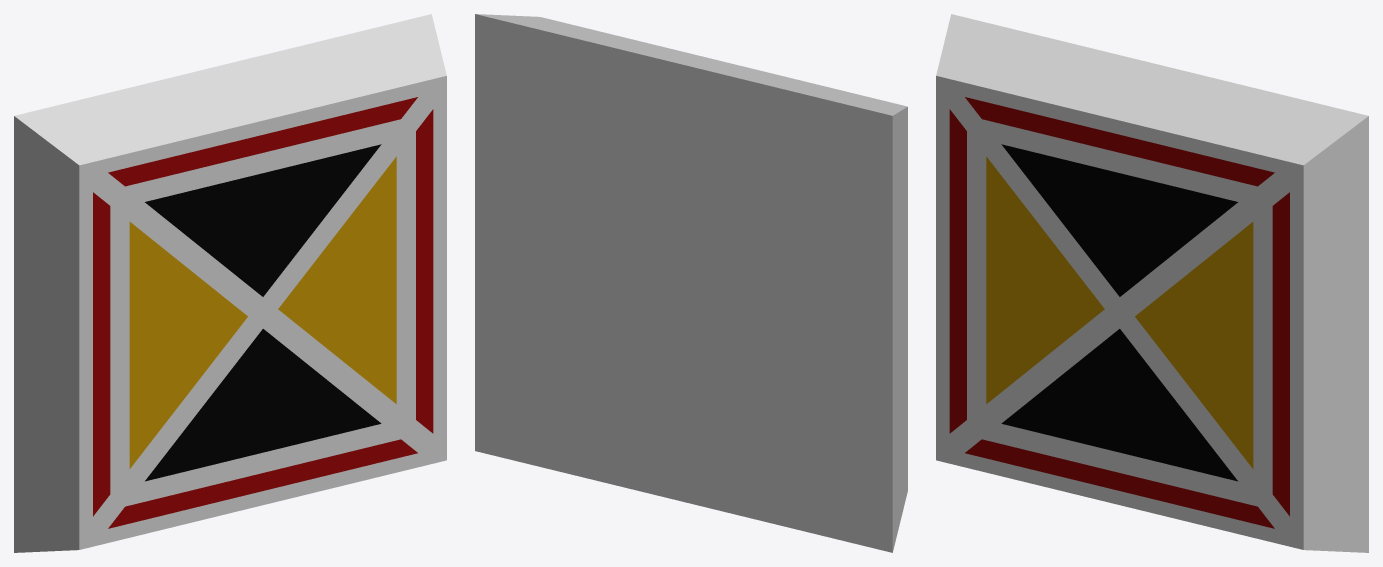
File: SciFi_Semiotic_High_Radioactivity_01.fbx
The picture shows the model from 3 angles, left to right: view 1: azimuth 30°, elevation 25°; view 2: azimuth 150°, elevation 25°; view 3: azimuth 330°, elevation 25°; orthographic projection.
Visible parts, largest first — view 1: SciFi_Semiotic_High_Radioactivity_01; view 2: SciFi_Semiotic_High_Radioactivity_01; view 3: SciFi_Semiotic_High_Radioactivity_01.
Boxes of the visible parts, x1,y1,x2,y2 form: SciFi_Semiotic_High_Radioactivity_01: (14, 14, 446, 552); SciFi_Semiotic_High_Radioactivity_01: (475, 14, 907, 552); SciFi_Semiotic_High_Radioactivity_01: (936, 14, 1368, 552).
Bounding box in the file's own units: 15.81 × 15.81 × 2.64.
